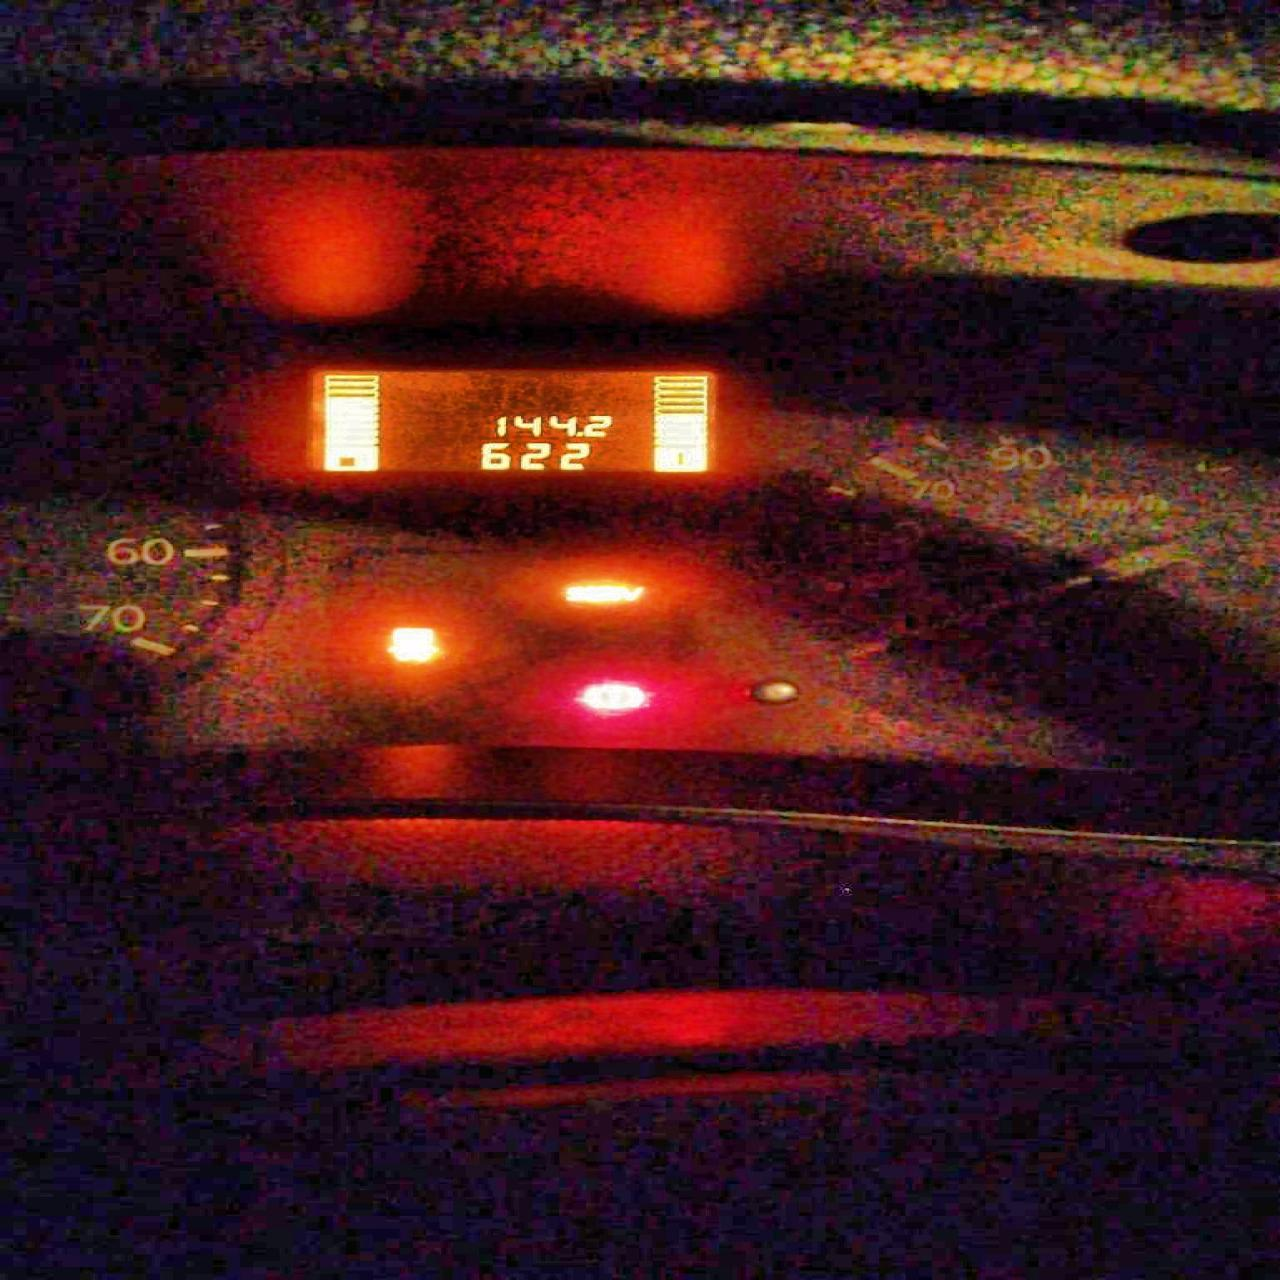-: (574, 430, 583, 437)
1: (492, 416, 508, 437)
2: (518, 442, 551, 470), (558, 442, 590, 470), (583, 414, 613, 437)
4: (511, 414, 542, 437), (547, 414, 577, 437)
6: (478, 442, 511, 470)
odometer: (297, 366, 722, 476)
